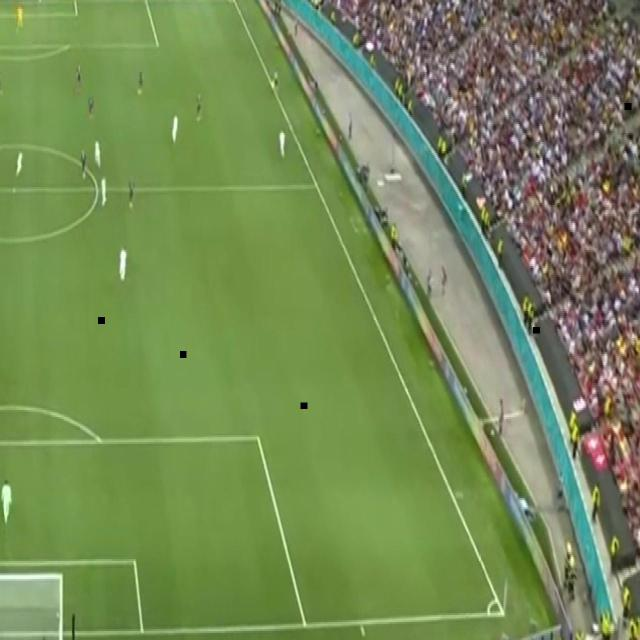player-white: (0, 478, 14, 525), (119, 244, 127, 284), (79, 147, 87, 181), (195, 90, 203, 124), (128, 176, 136, 210), (15, 149, 24, 179), (74, 60, 82, 90), (136, 67, 144, 97), (172, 114, 180, 144), (16, 4, 24, 34), (87, 92, 95, 121), (101, 175, 108, 206), (279, 128, 286, 158), (94, 136, 100, 170), (271, 68, 279, 89), (0, 67, 2, 99)
